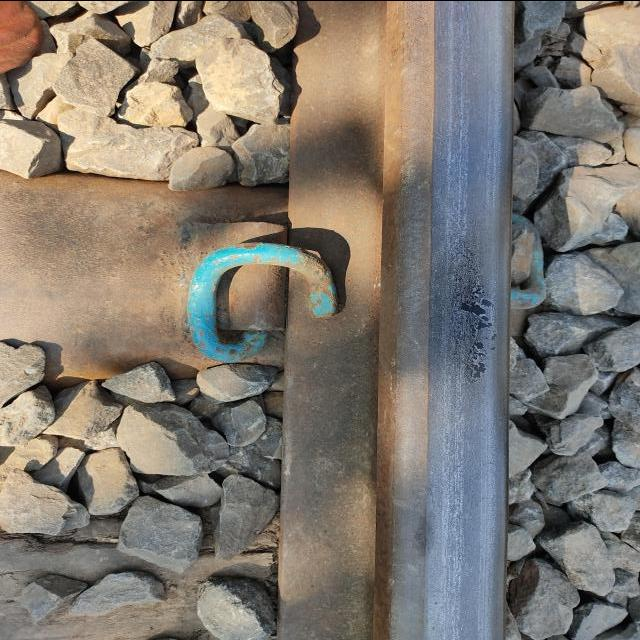squats_high: (452, 274, 498, 382)
